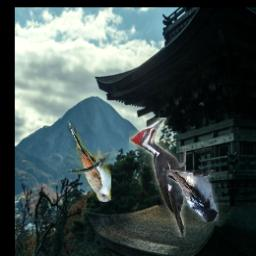Cuckoo: (68, 121, 112, 202)
Swallow: (167, 170, 220, 222)
Woodpecker: (129, 119, 186, 238)
